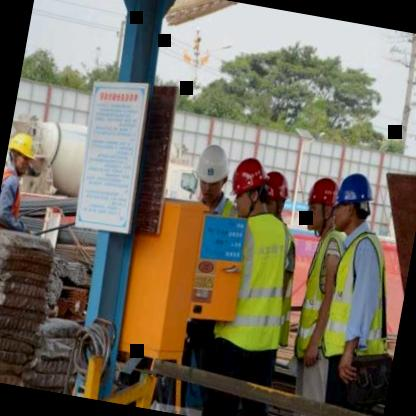helmet: (328, 165, 380, 238), (297, 170, 344, 238), (226, 154, 273, 218), (190, 141, 235, 205), (256, 166, 296, 222), (4, 129, 40, 178)
